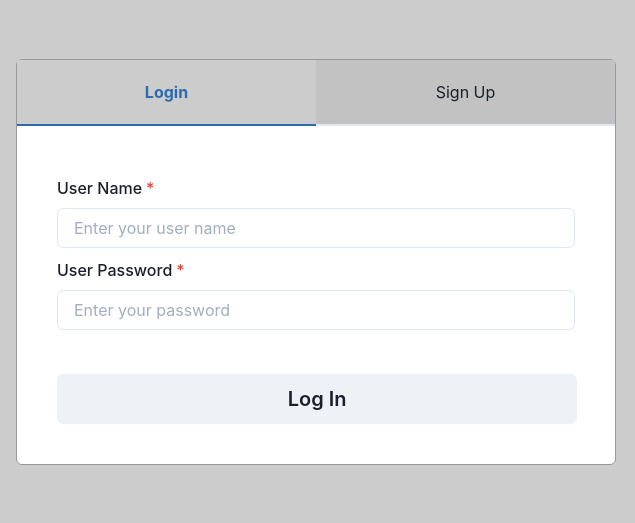
Test: Login UI Tests › Successfully switches tab and renders Sign Up form
Click the tab "Sign Up".
click(466, 93)  # box [316,60,615,126]
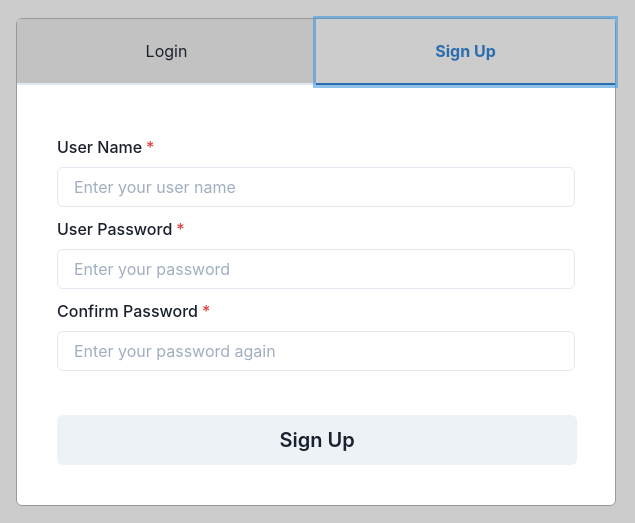
Check: the number of tabs is 2, box [17,19,316,85]; [316,19,615,85]
Check: the password field with placeholder "Enter your password again" is shown, box [57,331,575,371]
Check: the button with test id "submitButton" reads "Sign Up", box [57,415,577,465]
